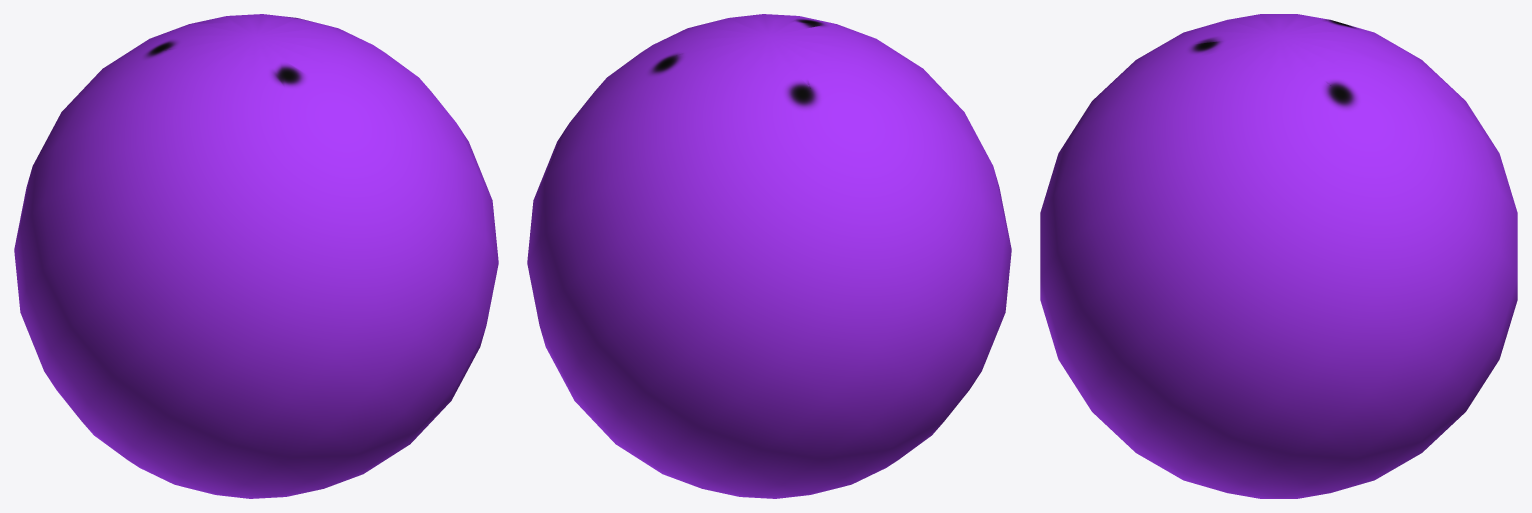
File: bowlingBall.fbx
3 views of the same model, side by side, from view 1: azimuth 30°, elevation 25°; view 2: azimuth 150°, elevation 25°; view 3: azimuth 270°, elevation 25° (orthographic).
Parts seen in each view (by area): view 1: Sphere.001; view 2: Sphere.001; view 3: Sphere.001.
Boxes of the visible parts, x1,y1,x2,y2 form: Sphere.001: (14, 14, 498, 498); Sphere.001: (527, 14, 1011, 498); Sphere.001: (1040, 14, 1517, 498).
Bounding box in the file's own units: 42.96 × 43.8 × 42.96.
Materials: 1 (1 with a texture image).
